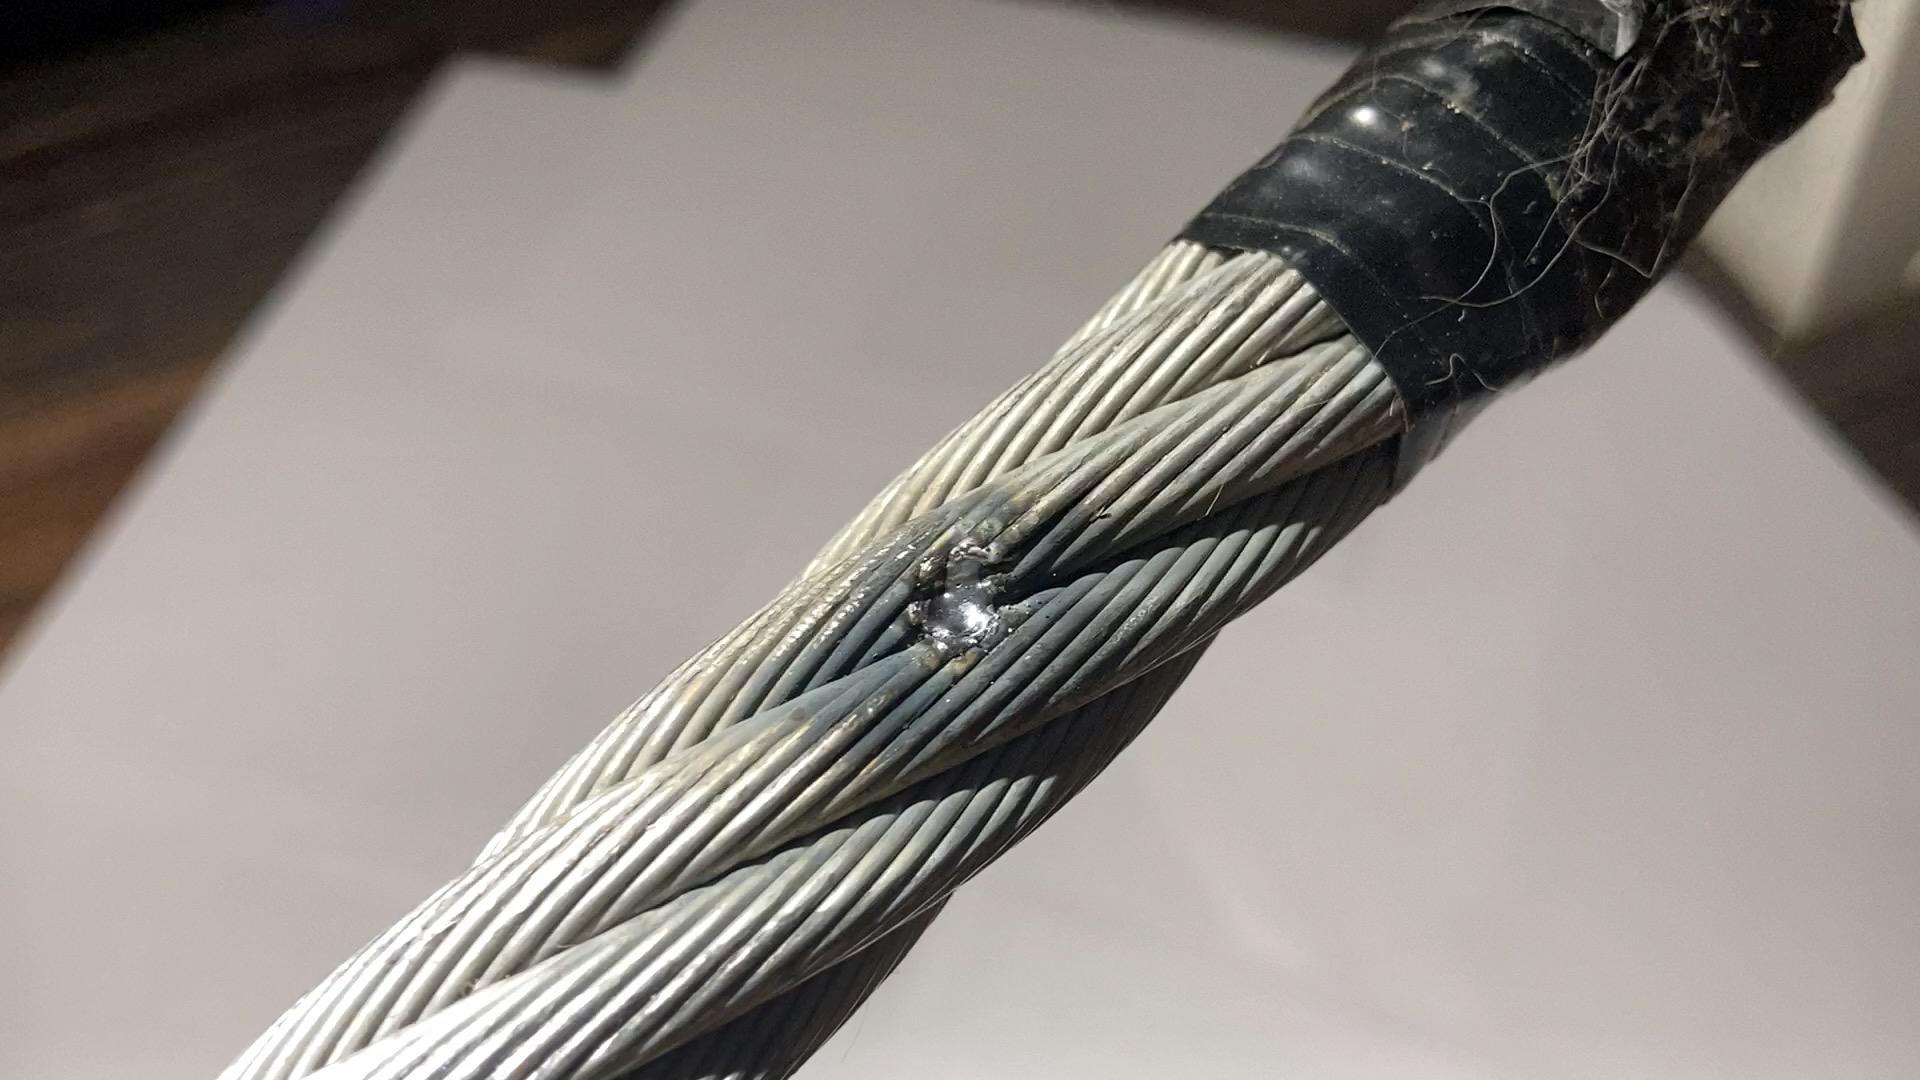thunderbolt: (895, 491, 1040, 663)
